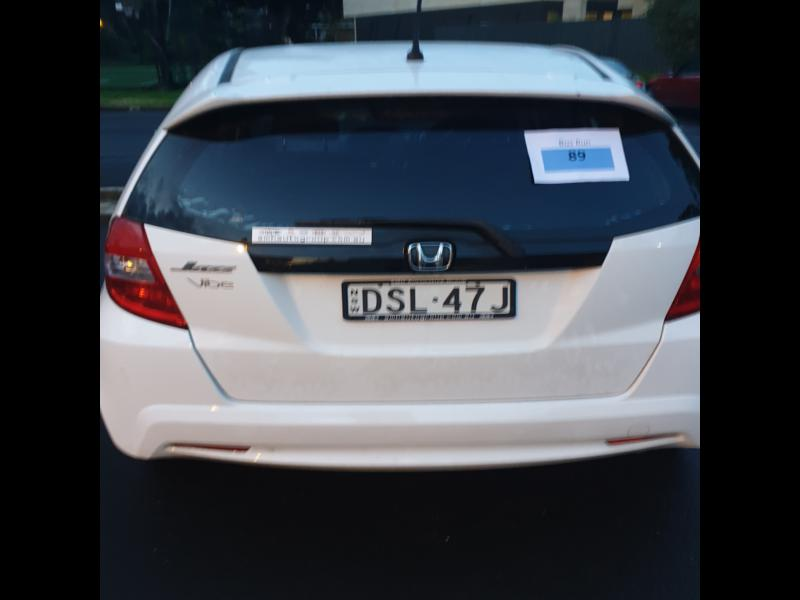BusRun: (544, 150, 614, 169)
PlateNo: (348, 283, 511, 315)
